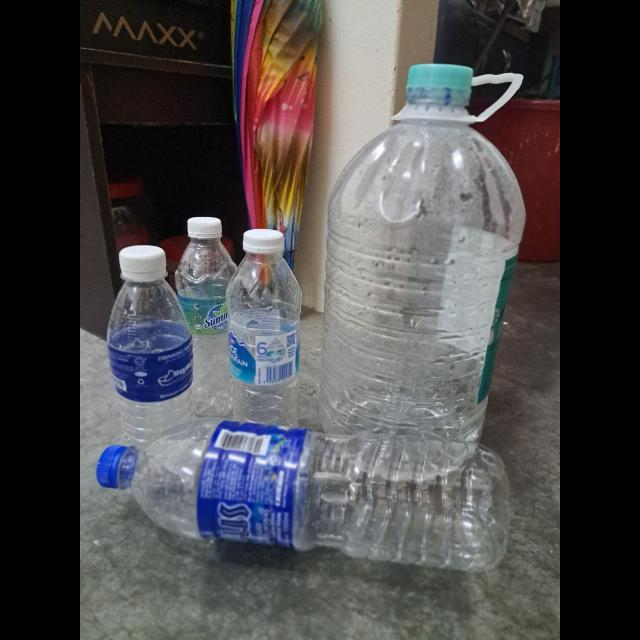garrafa plástica: (326, 120, 524, 486), (126, 425, 507, 583), (110, 277, 196, 448), (228, 253, 300, 442), (174, 247, 242, 413)
tampa plástica: (406, 62, 472, 108), (119, 246, 169, 284), (96, 444, 132, 494), (243, 226, 280, 260), (186, 213, 222, 240)
